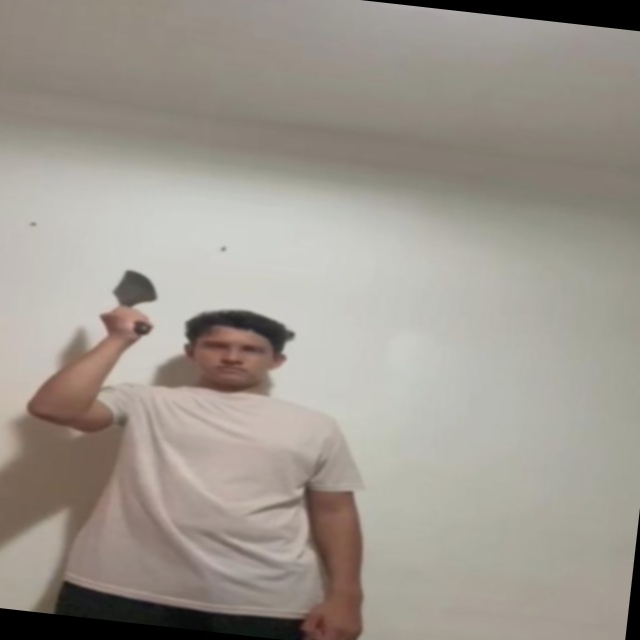Sharp-Object: (111, 268, 158, 308)
